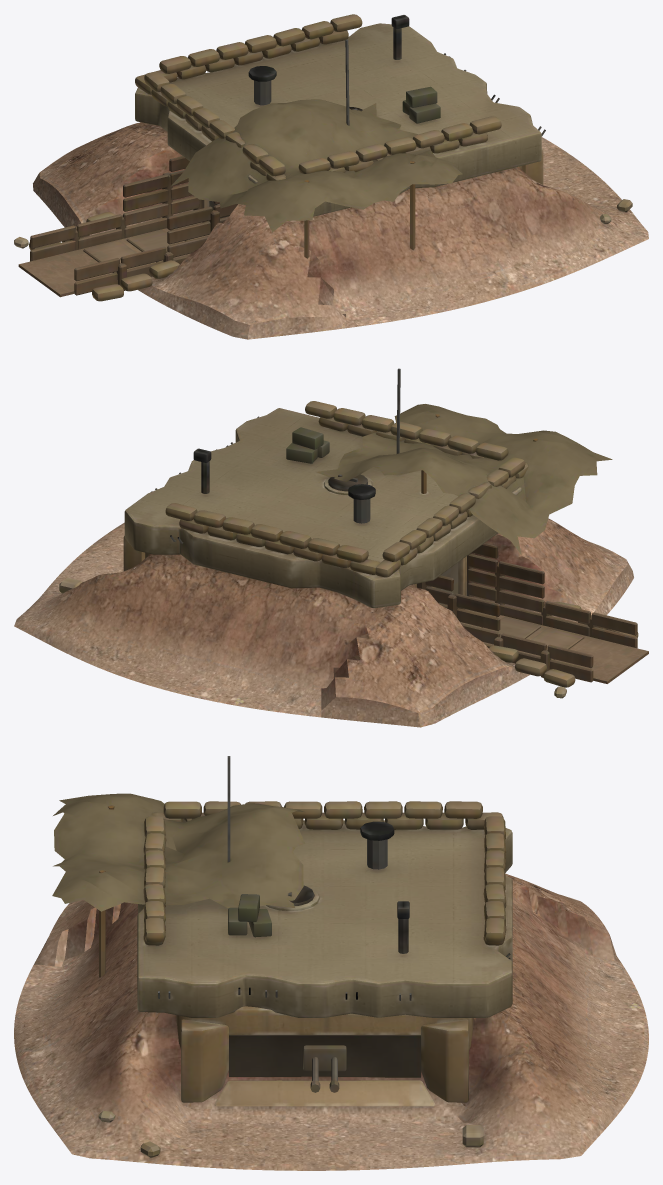
Rendered from fh_battle_e_bunker.glb.
The picture shows the model from 3 angles, top to bottom: view 1: azimuth 30°, elevation 25°; view 2: azimuth 150°, elevation 25°; view 3: azimuth 270°, elevation 25°; orthographic projection. The views are drawn at different scales.
Visible parts, largest first — view 1: e_bunker; view 2: e_bunker; view 3: e_bunker.
Part boxes in pixels (x1,y1,x2,y2): e_bunker: (14,14,648,339); e_bunker: (14,368,648,727); e_bunker: (14,756,648,1170).
Size of the model in its own units: 0.8618 by 0.33 by 0.7279.
Materials: 1 (1 with a texture image).
